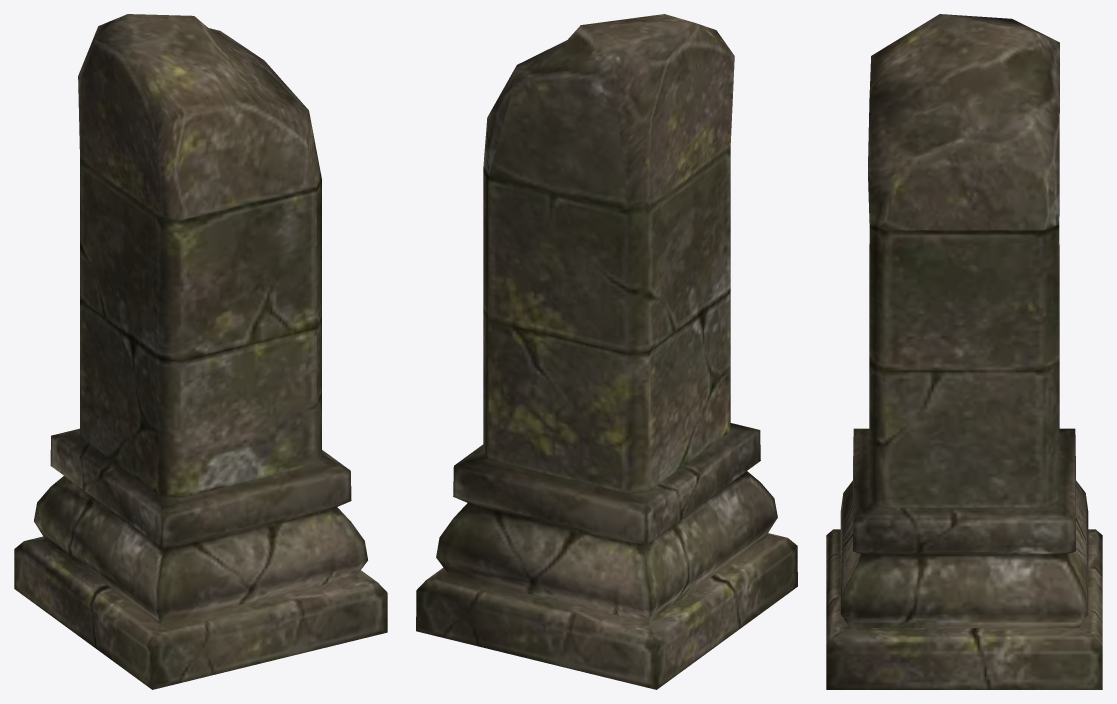
Rendered from Column_Broken_07-transformed.glb.
3 renders of one model, left to right at view 1: azimuth 30°, elevation 25°; view 2: azimuth 150°, elevation 25°; view 3: azimuth 270°, elevation 25°, orthographic. The views are drawn at different scales.
Visible parts, largest first — view 1: default; view 2: default; view 3: default.
Part boxes in pixels (box(x1,y1,x2,y2)): default: box(14, 14, 387, 689); default: box(416, 14, 797, 689); default: box(826, 14, 1102, 689).
Bounding box in the file's own units: 1.2 × 2.85 × 1.22.
1 material, 1 textured.
